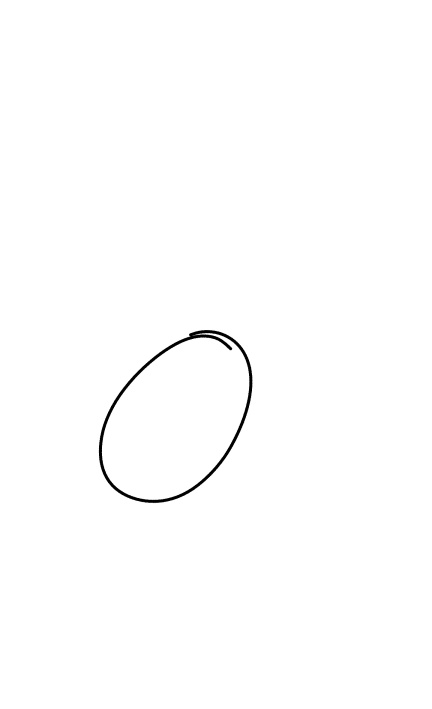Circle: (94, 327, 256, 507)
